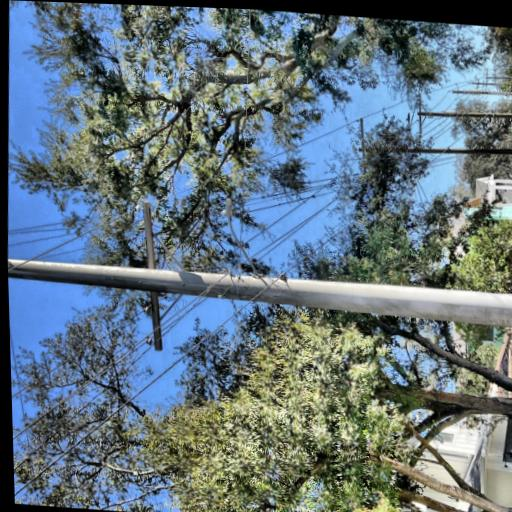pole: (68, 3, 147, 512)
